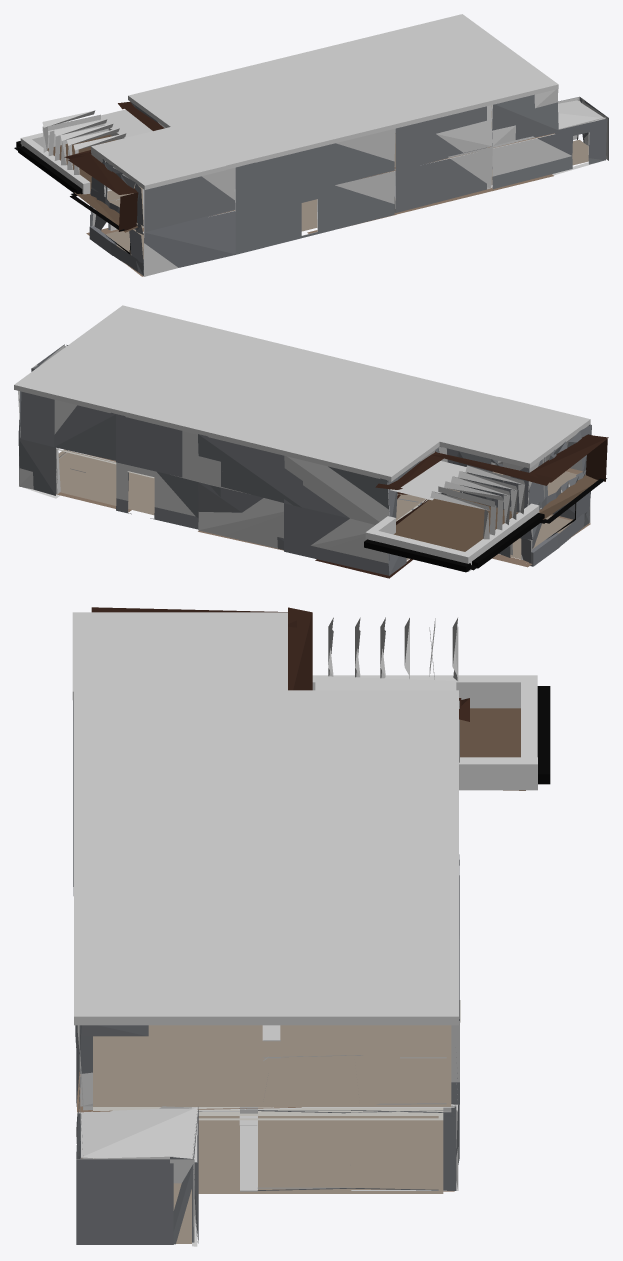
Rendered from modern-house.access-v14.lod2.glb.
3 renders of one model, top to bottom at view 1: azimuth 30°, elevation 25°; view 2: azimuth 150°, elevation 25°; view 3: azimuth 270°, elevation 25°, orthographic. The views are drawn at different scales.
Parts seen in each view (by area): view 1: Object_2; view 2: Object_2; view 3: Object_2.
Part boxes in pixels (x1,y1,x2,y2): Object_2: [14, 14, 608, 276]; Object_2: [14, 305, 608, 578]; Object_2: [72, 607, 550, 1246].
Bounding box in the file's own units: 35.73 × 6.46 × 15.19.
